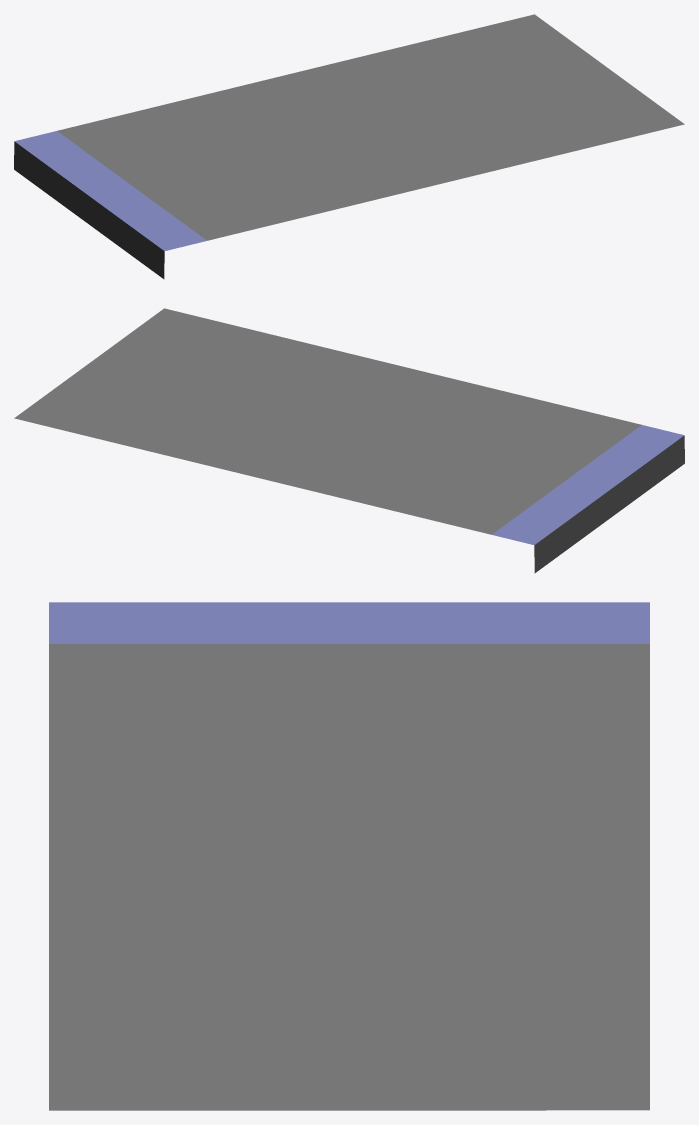
Rendered from W_M_maze_003_4x2_Bottom_L2.fbx.
3 views of the same model, one above another, from view 1: azimuth 30°, elevation 25°; view 2: azimuth 150°, elevation 25°; view 3: azimuth 270°, elevation 25° (orthographic). The views are drawn at different scales.
Parts seen in each view (by area): view 1: W_M_maze_003_4x2_Bottom_L2; view 2: W_M_maze_003_4x2_Bottom_L2; view 3: W_M_maze_003_4x2_Bottom_L2.
Boxes of the visible parts, x1,y1,x2,y2 form: W_M_maze_003_4x2_Bottom_L2: [14, 14, 684, 279]; W_M_maze_003_4x2_Bottom_L2: [14, 308, 684, 573]; W_M_maze_003_4x2_Bottom_L2: [49, 602, 649, 1110].
Bounding box in the file's own units: 4 × 0.2075 × 2.
